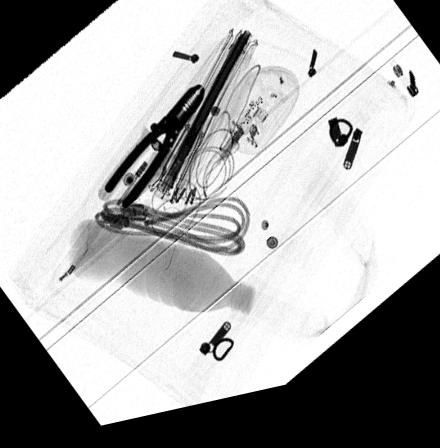Pliers: (100, 91, 205, 217)
